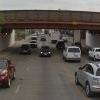Bridge: (1, 2, 99, 40)
